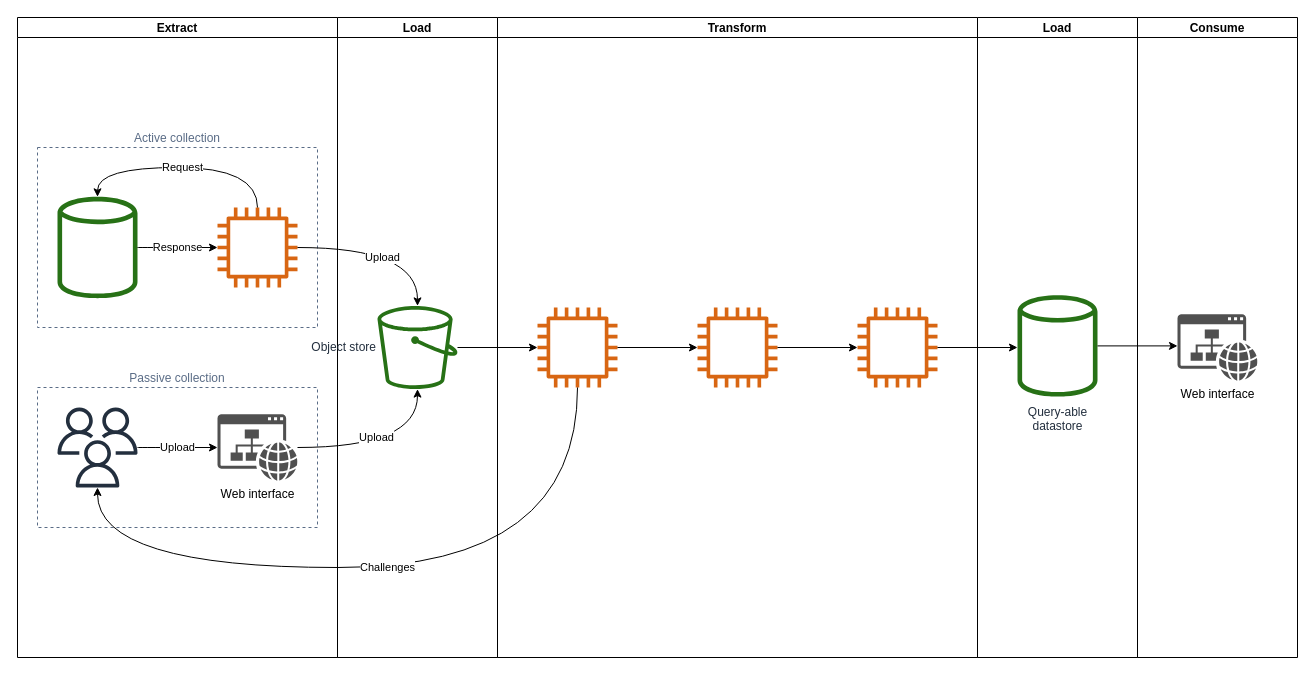
This 1315x675 diagram has some shape labels left out. Each missing label, with the centre of its shape:
Data providers: the point at 97,447
Data sources: the point at 97,247
Extraction: the point at 257,247
Transformation: the point at 737,347
Validation /Input: the point at 577,347
Validation /Output: the point at 897,347
